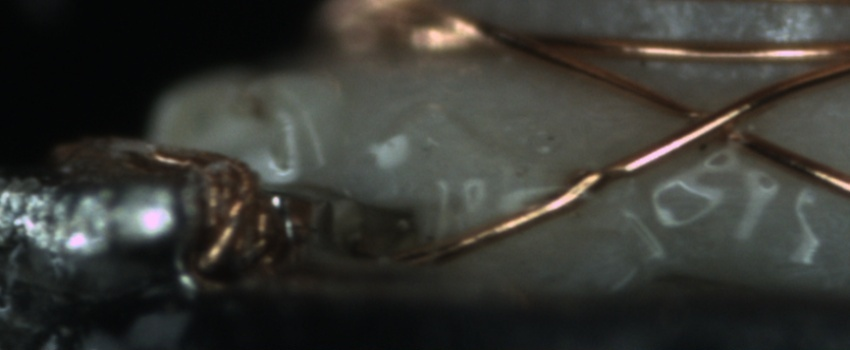CL: (663, 92, 763, 159)
TE: (145, 145, 281, 286)
